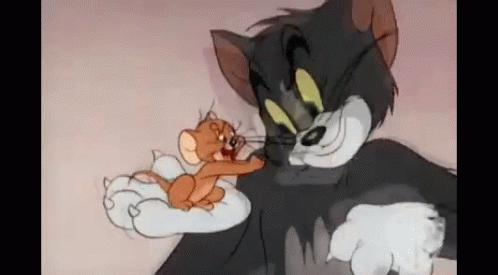jerry: (127, 100, 267, 212)
